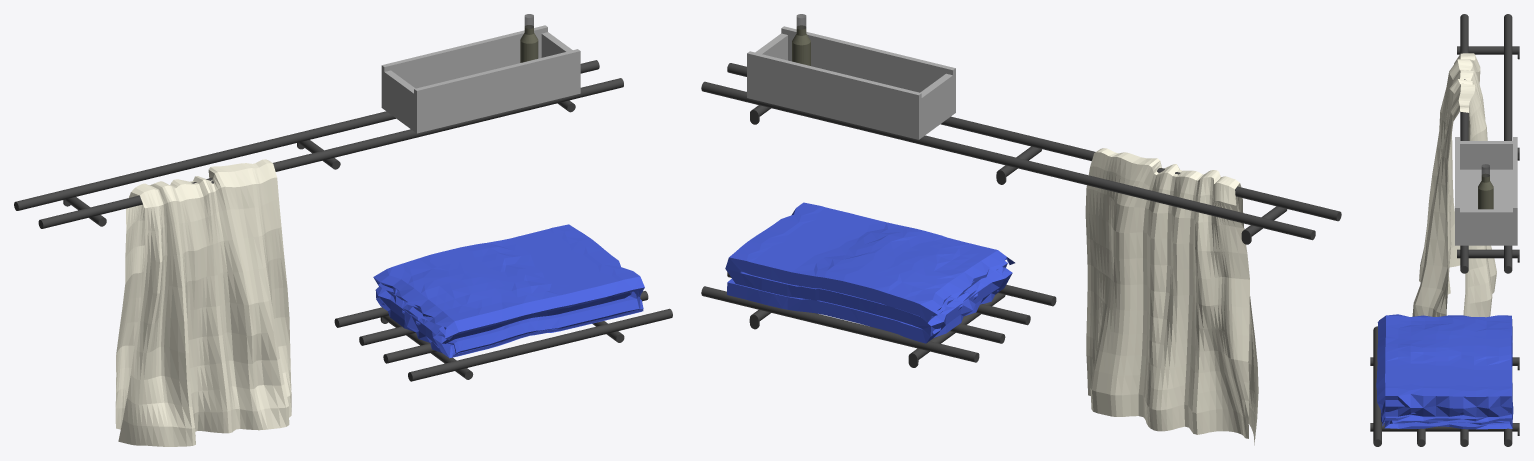
The model's file is com_bath3.obj.
3 renders of one model, left to right at view 1: azimuth 30°, elevation 25°; view 2: azimuth 150°, elevation 25°; view 3: azimuth 270°, elevation 25°, orthographic. The views are drawn at different scales.
Visible parts, largest first — view 1: A_toalla_blanc_Mesh, A_tolla_blanca_Cube.016, A_cajoncio2_Cube.005, A_estanteria_metal_Cylinder.003, A_estant_Cylinder.006, A_colonia_Cylinder.033; view 2: A_toalla_blanc_Mesh, A_tolla_blanca_Cube.016, A_cajoncio2_Cube.005, A_estanteria_metal_Cylinder.003, A_estant_Cylinder.006, A_colonia_Cylinder.033; view 3: A_tolla_blanca_Cube.016, A_toalla_blanc_Mesh, A_cajoncio2_Cube.005, A_estanteria_metal_Cylinder.003, A_estant_Cylinder.006, A_colonia_Cylinder.033.
Boxes of the visible parts, left/top/right/bottom form: A_toalla_blanc_Mesh: left=115, top=159, right=291, bottom=446; A_tolla_blanca_Cube.016: left=373, top=224, right=644, bottom=358; A_cajoncio2_Cube.005: left=381, top=25, right=580, bottom=133; A_estanteria_metal_Cylinder.003: left=14, top=60, right=623, bottom=228; A_estant_Cylinder.006: left=334, top=291, right=672, bottom=381; A_colonia_Cylinder.033: left=520, top=14, right=538, bottom=62; A_toalla_blanc_Mesh: left=1085, top=148, right=1258, bottom=445; A_tolla_blanca_Cube.016: left=725, top=202, right=1014, bottom=343; A_cajoncio2_Cube.005: left=747, top=26, right=955, bottom=139; A_estanteria_metal_Cylinder.003: left=701, top=63, right=1341, bottom=244; A_estant_Cylinder.006: left=701, top=272, right=1056, bottom=367; A_colonia_Cylinder.033: left=792, top=14, right=810, bottom=65; A_tolla_blanca_Cube.016: left=1376, top=314, right=1513, bottom=429; A_toalla_blanc_Mesh: left=1412, top=53, right=1496, bottom=317; A_cajoncio2_Cube.005: left=1455, top=137, right=1517, bottom=245; A_estanteria_metal_Cylinder.003: left=1457, top=14, right=1519, bottom=273; A_estant_Cylinder.006: left=1370, top=326, right=1519, bottom=446; A_colonia_Cylinder.033: left=1478, top=164, right=1493, bottom=209.
Size of the model in its own units: 5.06 by 2.63 by 1.27.
